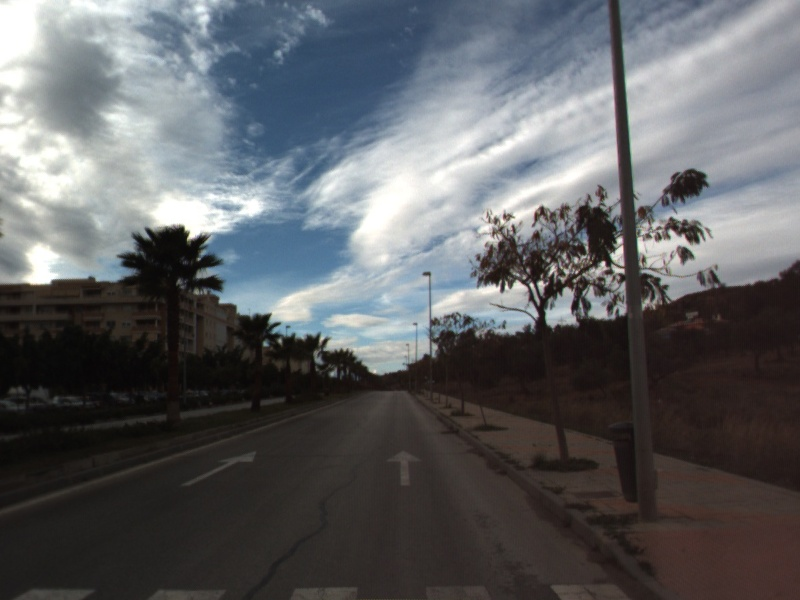STRAIGHT: (179, 449, 259, 488), (384, 447, 424, 487)
